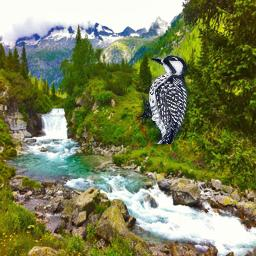Woodpecker: (139, 52, 190, 144)
